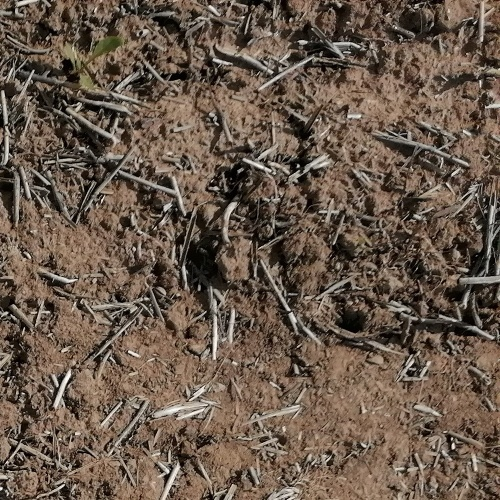beet: (57, 34, 131, 90)
